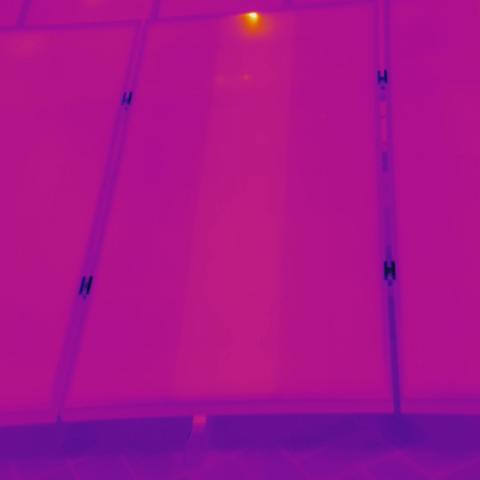fault: (243, 8, 264, 26)
